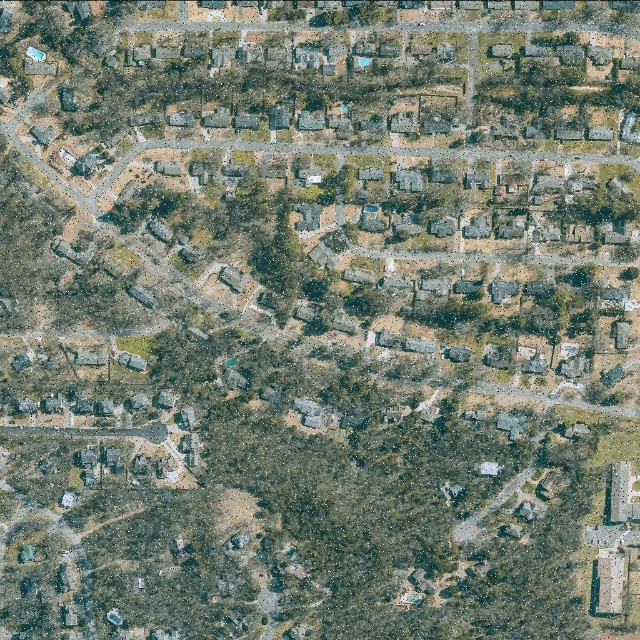vegetation: (198, 401, 616, 639), (108, 175, 595, 336), (0, 132, 159, 337), (36, 61, 455, 138), (68, 484, 253, 638), (243, 339, 419, 411), (473, 67, 639, 114), (153, 328, 250, 407)
